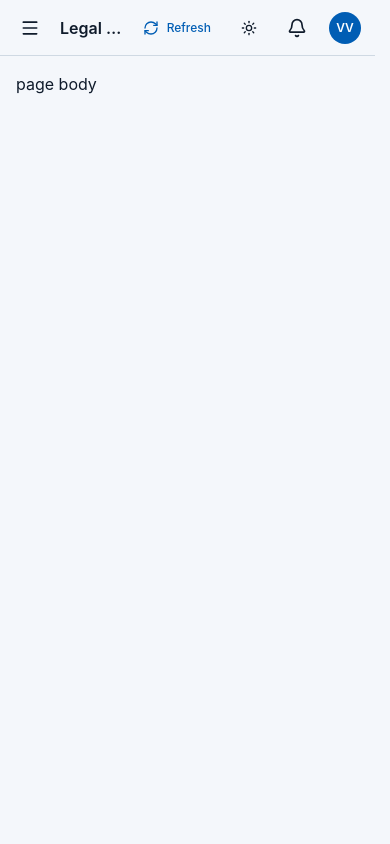
Test case: AppShell › closes the navigation sheet whenever the path changes
This screenshot has width=390, height=844.
Step 1. Click the button named "open navigation" → click(30, 28), box [8,6,52,50]
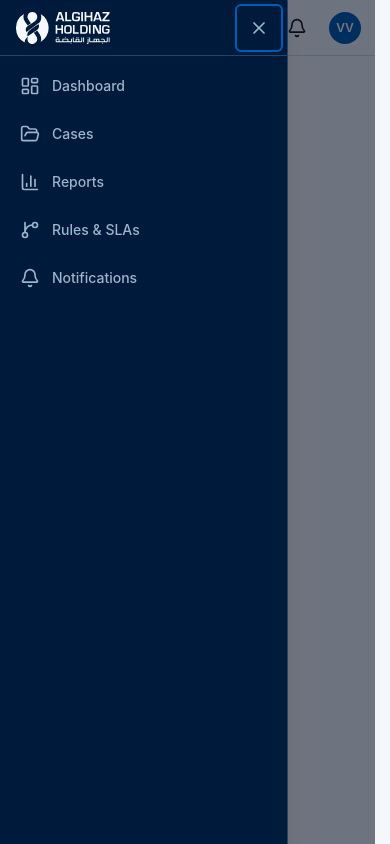
Expected: the dialog is shown
